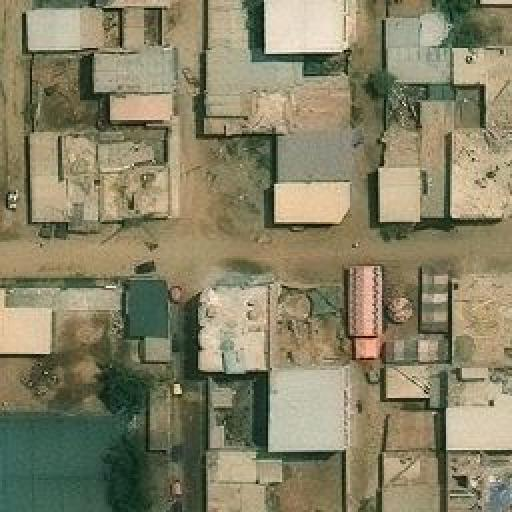manzanas: (0, 283, 185, 510), (197, 0, 361, 229), (201, 276, 355, 510), (21, 3, 181, 225), (379, 261, 510, 510), (376, 1, 510, 231)
